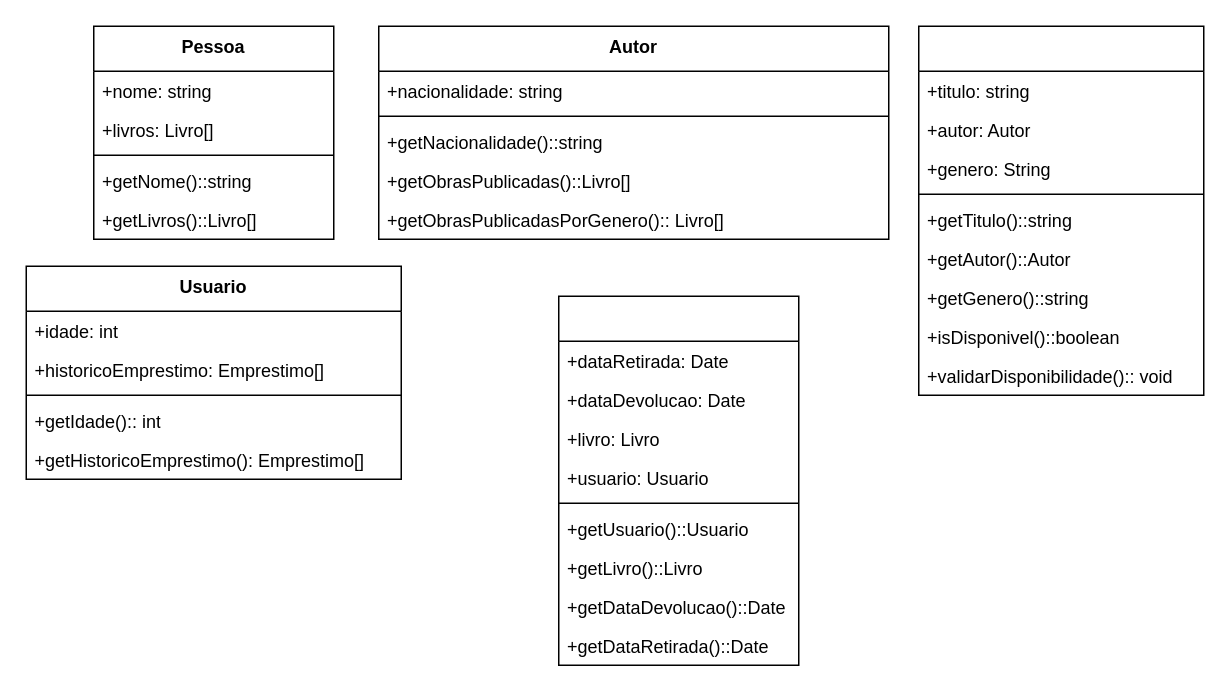
Image size: 1230x696. Some labels were removed from this diagram. The box of each missing label's shape, as (x1, y1, x2, y2) in pixels:
Emprestimo: (557, 295, 799, 665)
Livro: (917, 25, 1204, 395)
